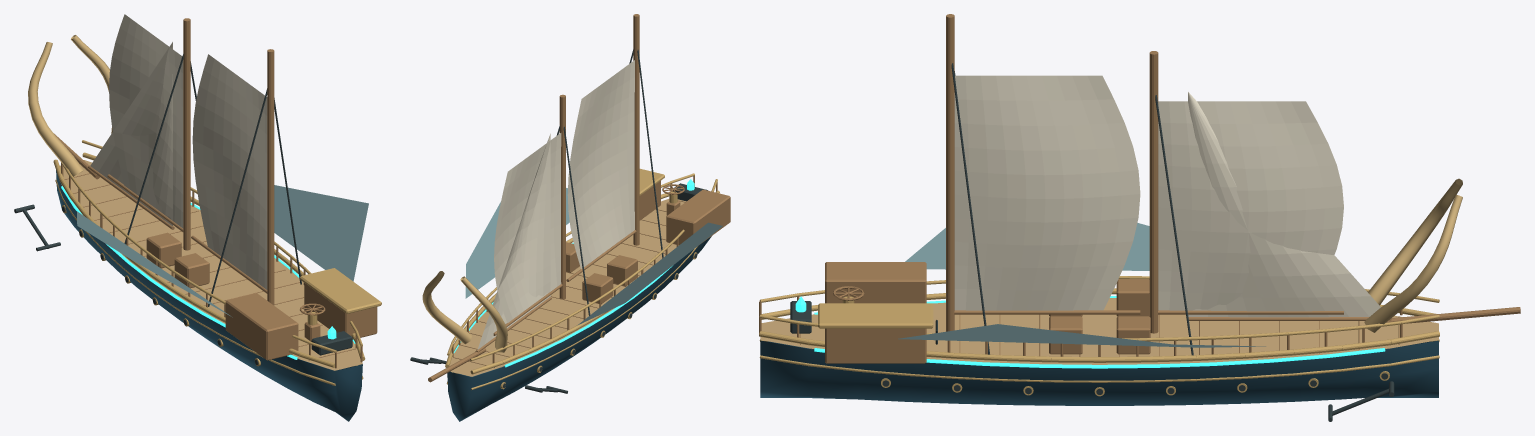
Rendered from premium_golden_clipper.glb.
The picture shows the model from 3 angles, left to right: view 1: azimuth 30°, elevation 25°; view 2: azimuth 150°, elevation 25°; view 3: azimuth 270°, elevation 25°; orthographic projection. The views are drawn at different scales.
Parts seen in each view (by area): view 1: premium_golden_clipper; view 2: premium_golden_clipper; view 3: premium_golden_clipper.
Part boxes in pixels (x1=…): premium_golden_clipper: x1=14, y1=14, x2=381, y2=421; premium_golden_clipper: x1=410, y1=14, x2=730, y2=421; premium_golden_clipper: x1=759, y1=14, x2=1520, y2=421.
Size of the model in its own units: 6.83 by 8.7 by 15.71.
